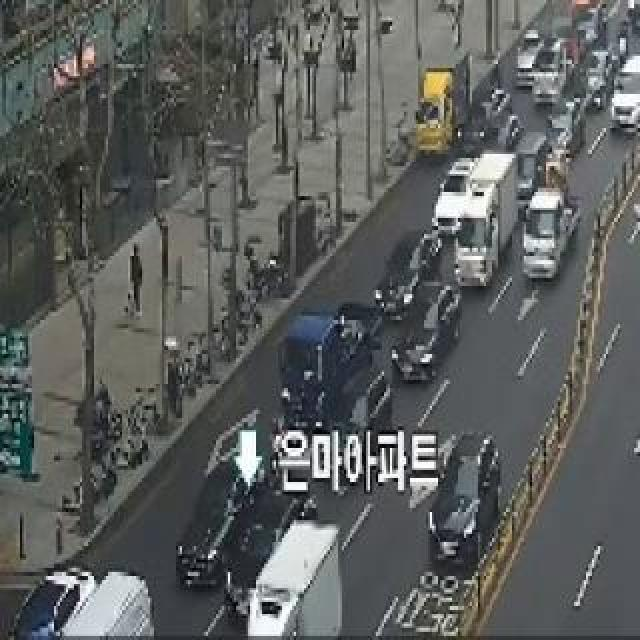truck: (272, 289, 372, 425), (248, 518, 346, 640), (462, 155, 512, 295), (417, 36, 471, 162), (524, 185, 578, 299)
